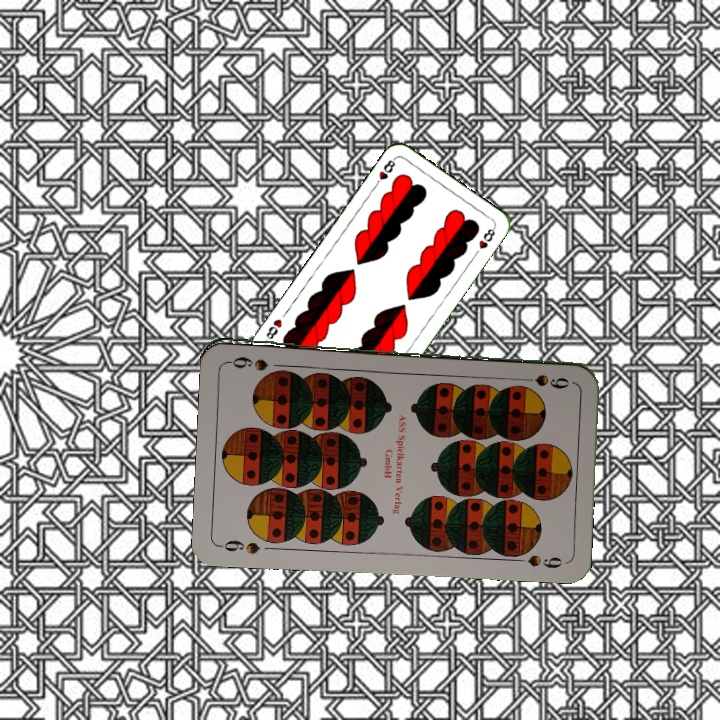H8: (370, 154, 398, 190)
S9: (514, 370, 571, 389), (216, 536, 262, 557)
